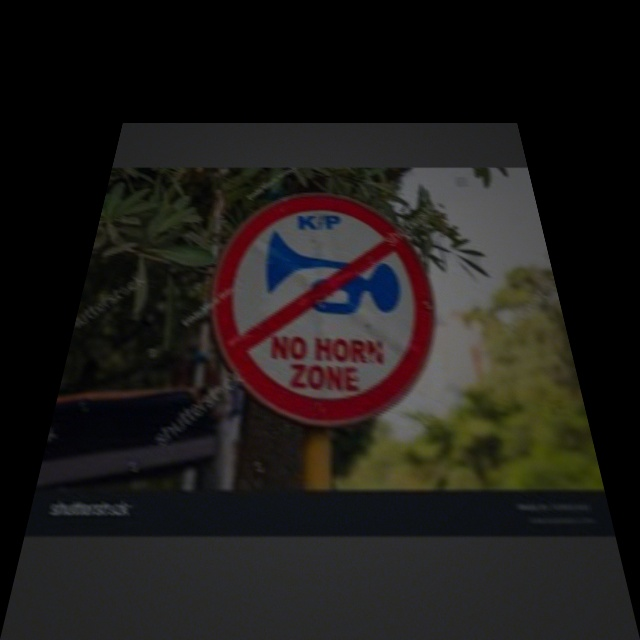Horn_Prohibited: (205, 194, 441, 417)
